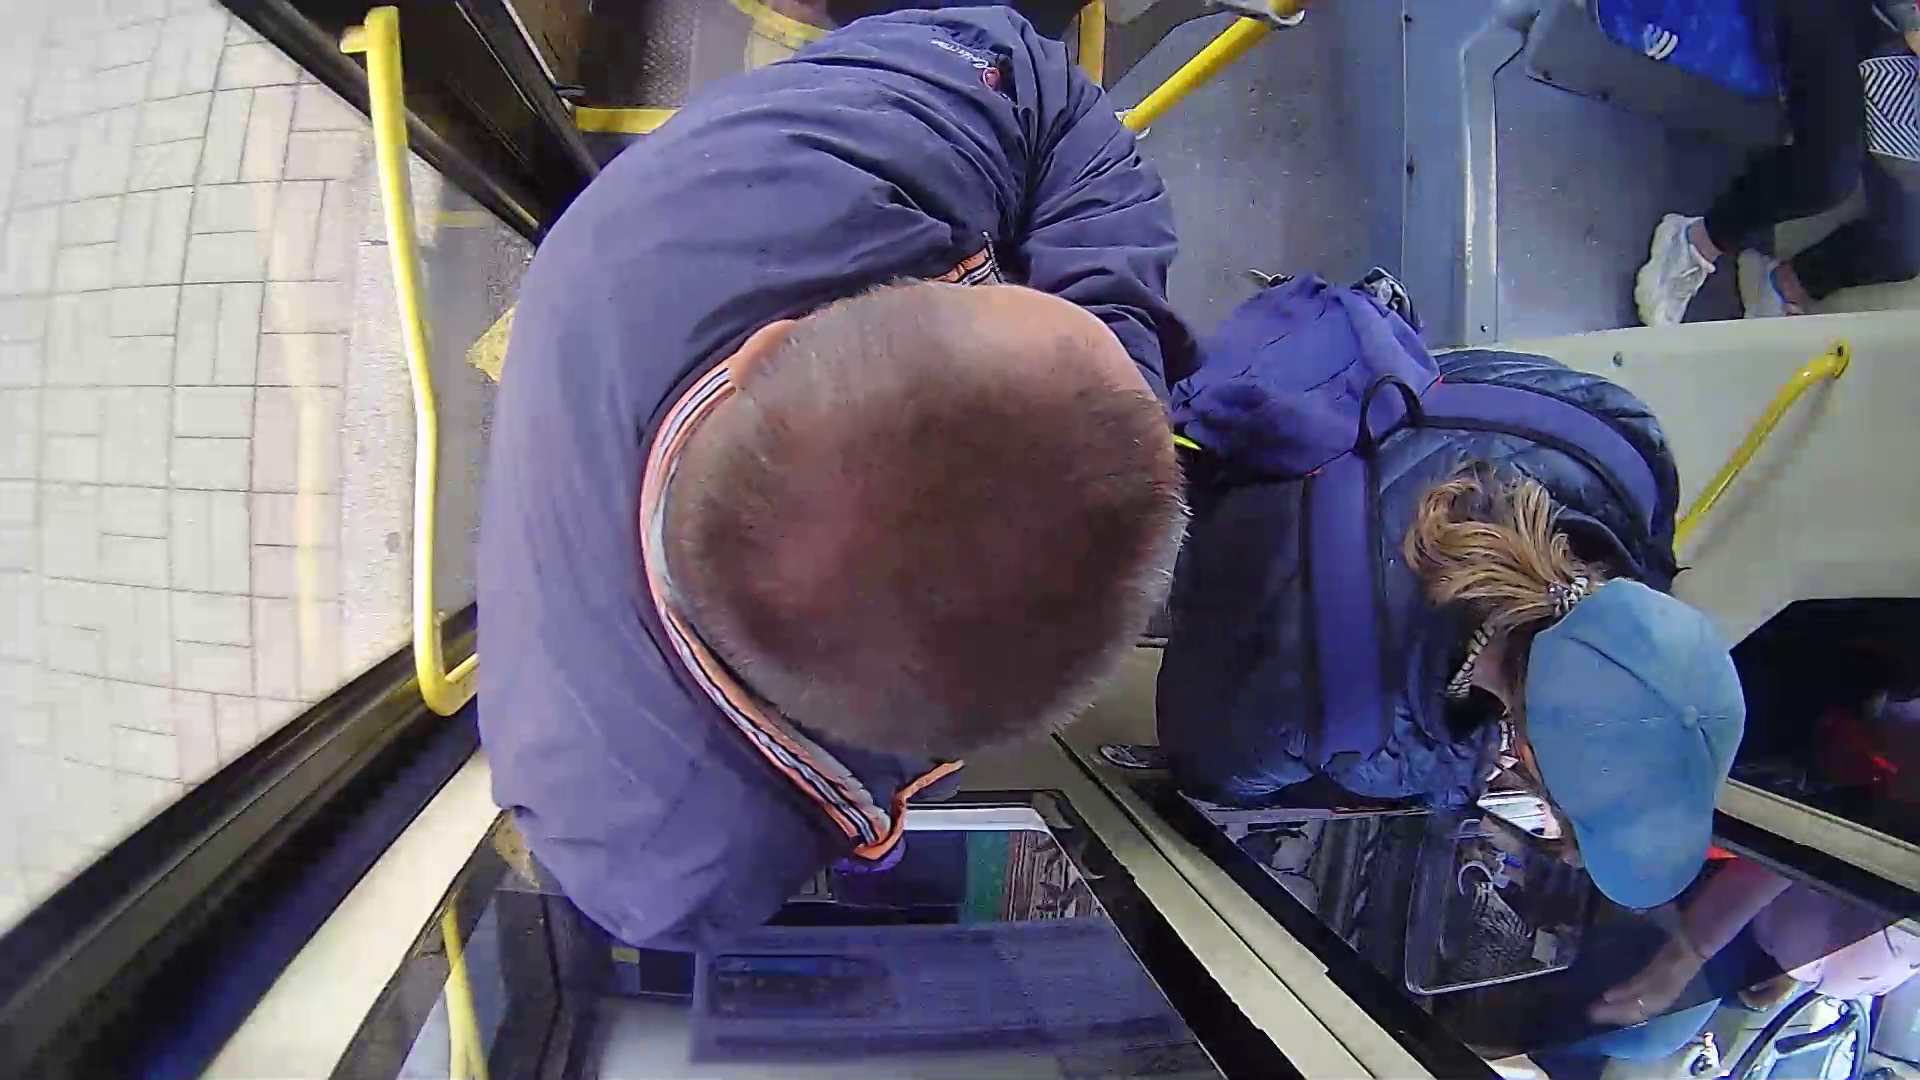person: (509, 88, 1233, 920), (1174, 309, 1746, 951)
